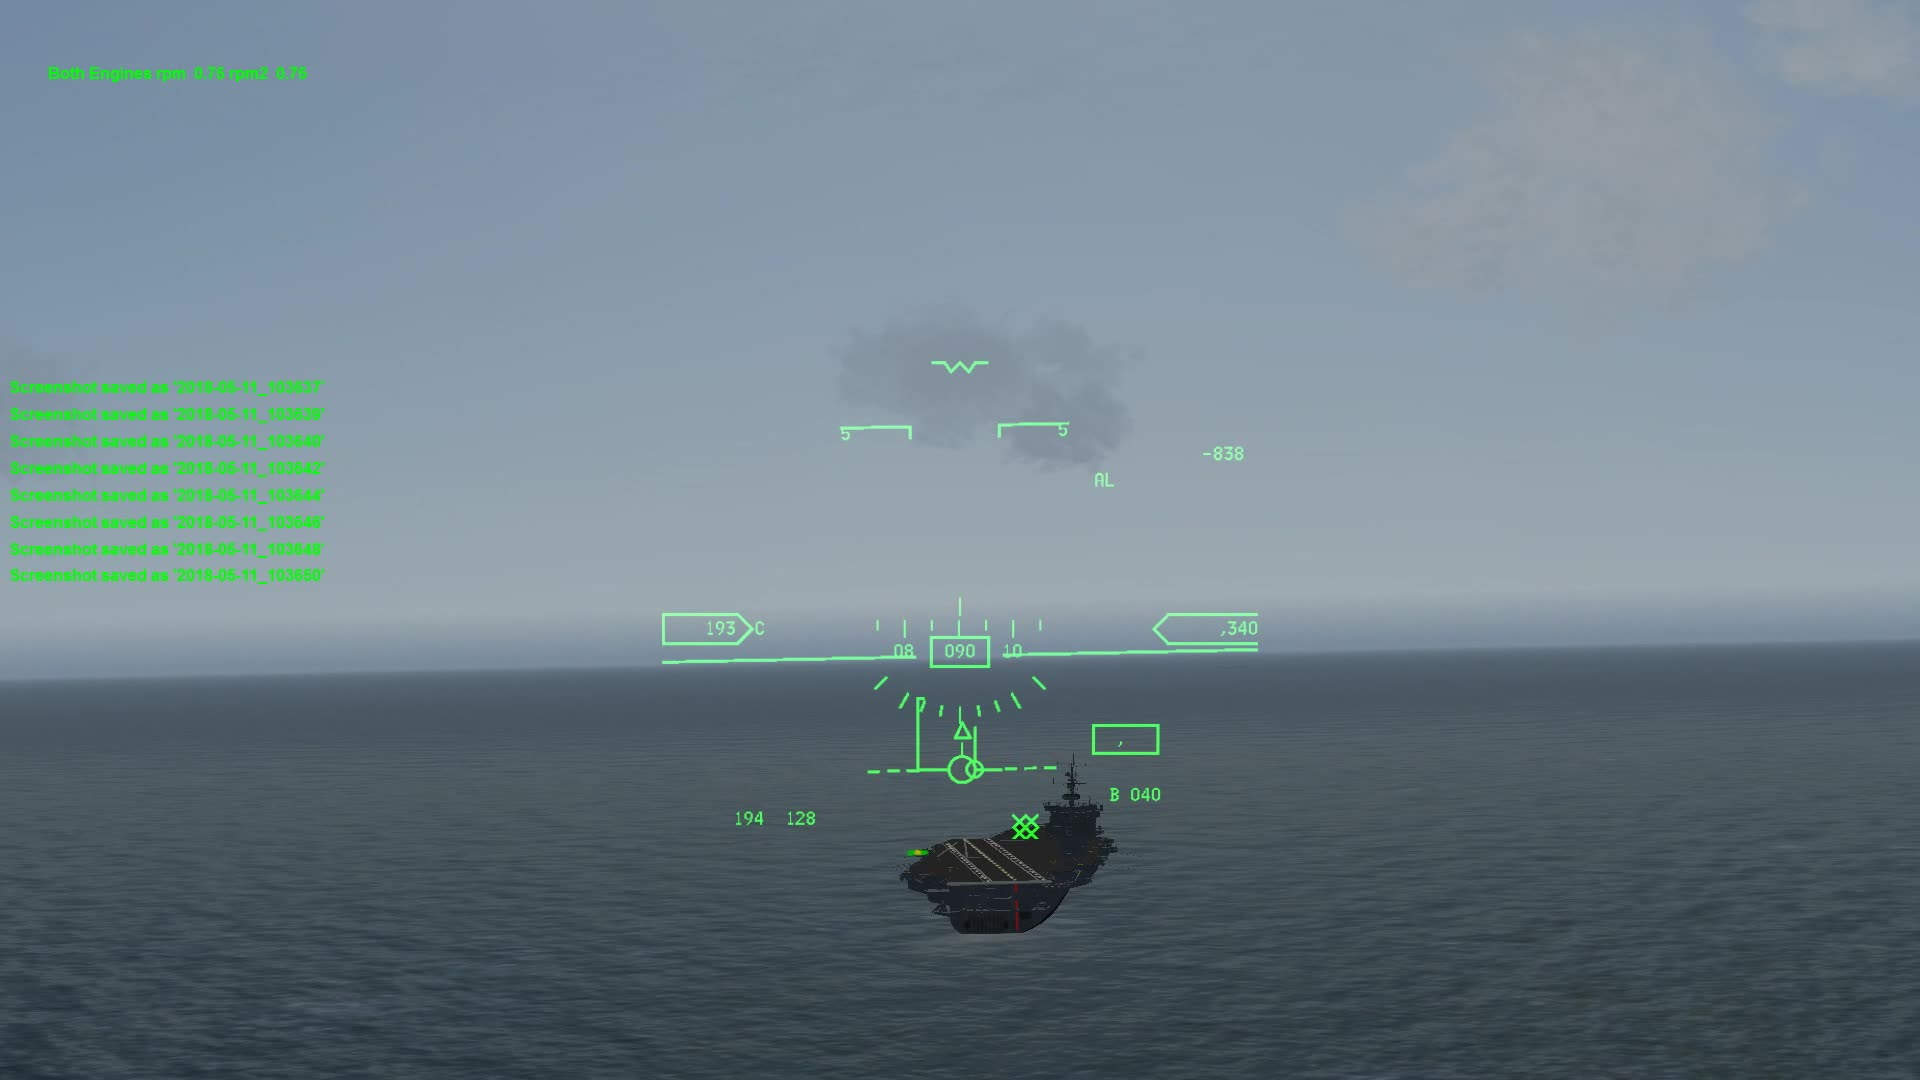speed vector: (924, 742, 1011, 789)
